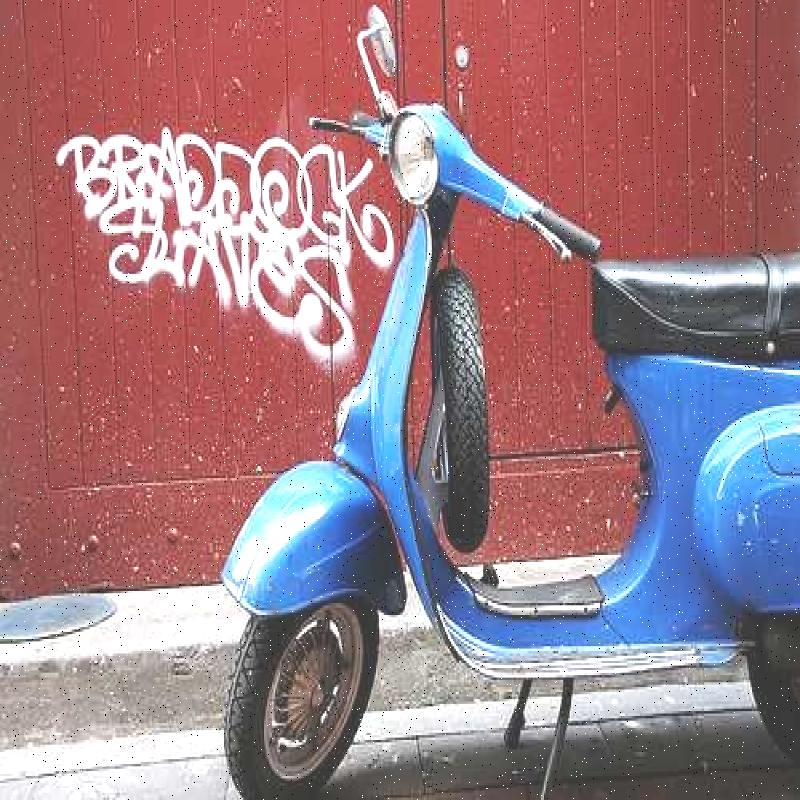bike: (181, 6, 800, 793)
